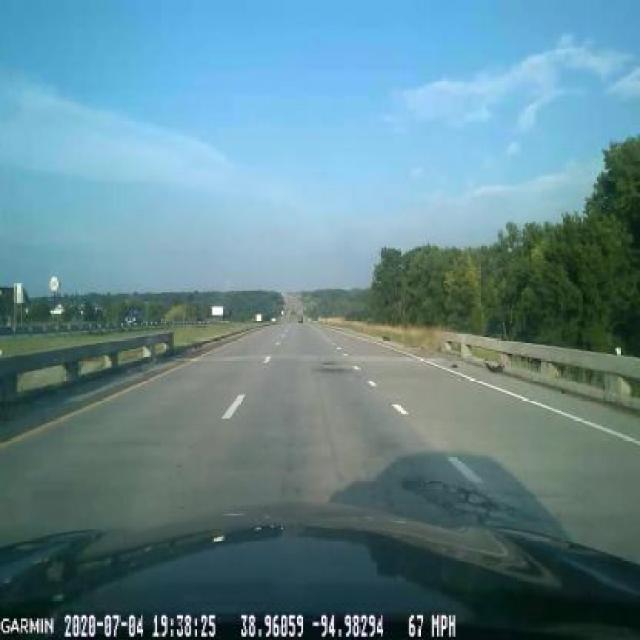Buraco: (395, 476, 540, 528)
